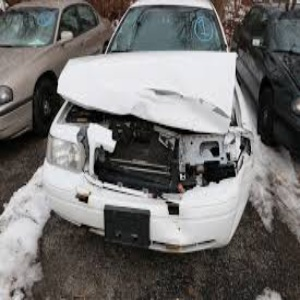bonnet: (60, 49, 239, 134)
bumper: (157, 172, 240, 259)
